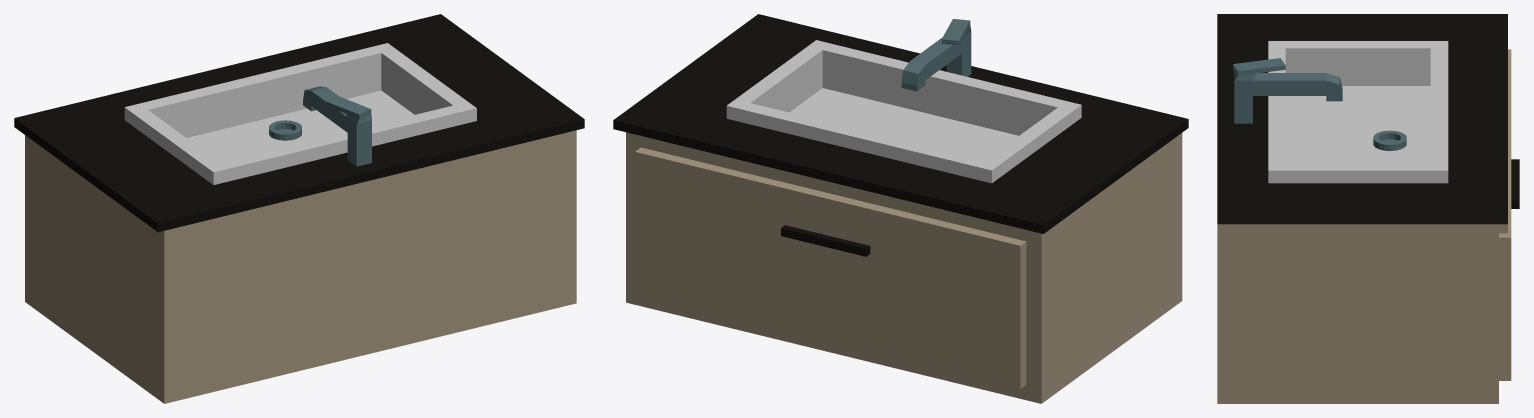
File: bathroom_sink.fbx
The picture shows the model from 3 angles, left to right: view 1: azimuth 30°, elevation 25°; view 2: azimuth 150°, elevation 25°; view 3: azimuth 270°, elevation 25°; orthographic projection.
Visible parts, largest first — view 1: Box016, Box017, Cylinder004; view 2: Box016, Box017; view 3: Box016, Box017, Cylinder004.
Part boxes in pixels (left/top/right/bottom): Box016: left=14, top=14, right=584, bottom=403; Box017: left=303, top=86, right=371, bottom=166; Cylinder004: left=269, top=120, right=301, bottom=140; Box016: left=613, top=14, right=1188, bottom=403; Box017: left=901, top=19, right=971, bottom=91; Box016: left=1217, top=14, right=1519, bottom=403; Box017: left=1233, top=58, right=1342, bottom=123; Cylinder004: left=1373, top=130, right=1406, bottom=150.
Bounding box in the file's own units: 168 × 88.44 × 102.
